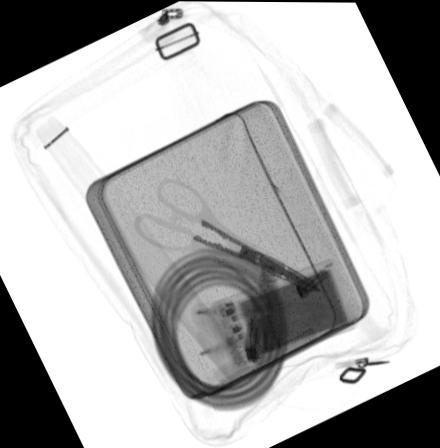Powerbank: (188, 254, 356, 388)
Scissors: (132, 177, 323, 292)
